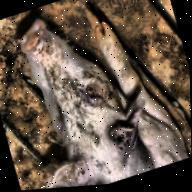boar: (1, 0, 190, 192)
